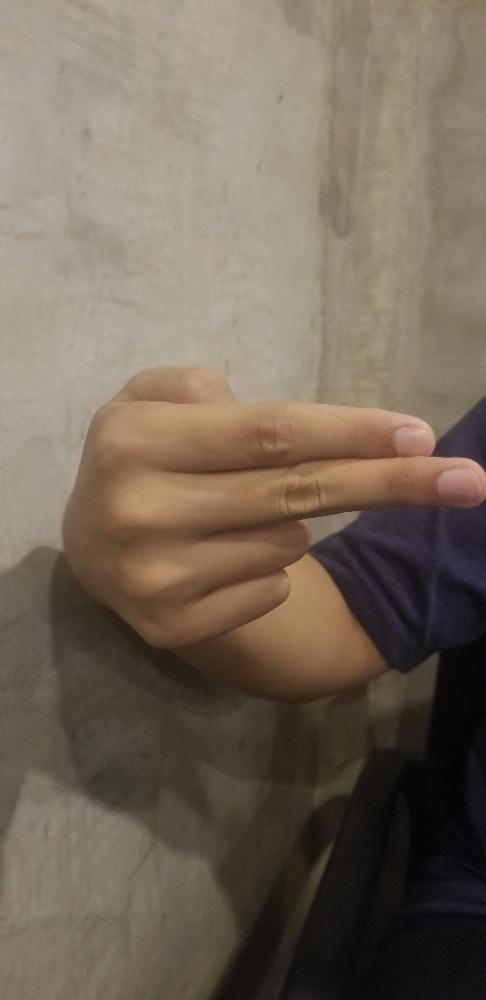h: (92, 363, 485, 652)
